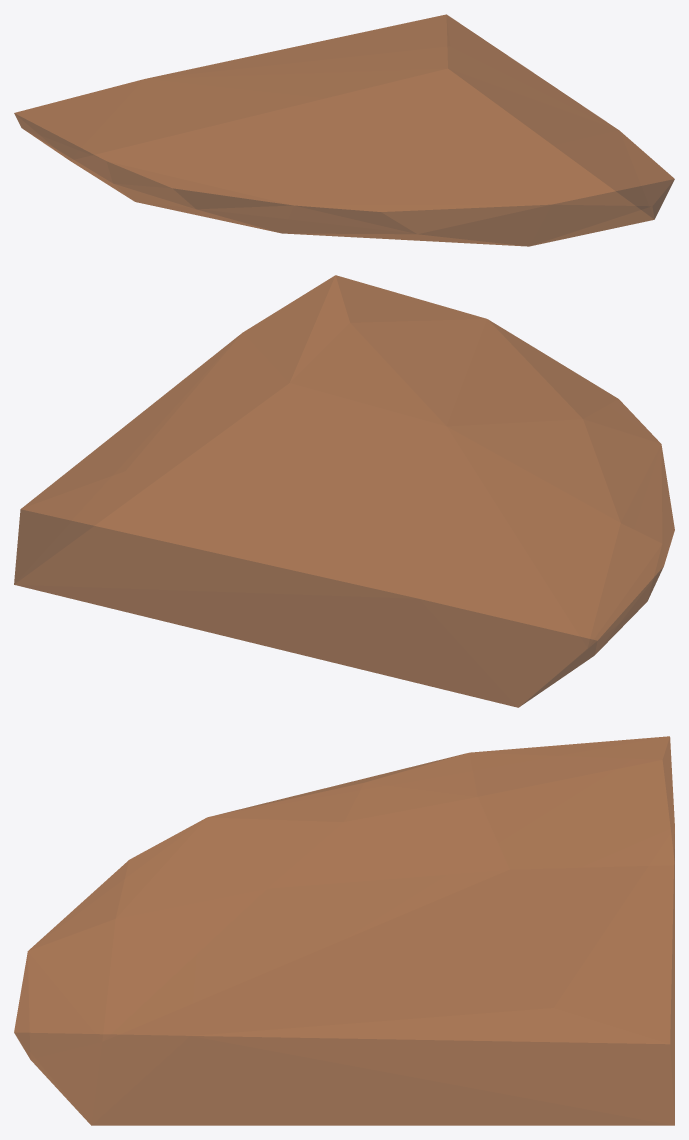
3 views of the same model, one above another, from view 1: azimuth 30°, elevation 25°; view 2: azimuth 150°, elevation 25°; view 3: azimuth 270°, elevation 25° (orthographic). The views are drawn at different scales.
Visible parts, largest first — view 1: Shape_IndexedFaceSet.005_Shape_IndexedFaceSet.7631; view 2: Shape_IndexedFaceSet.005_Shape_IndexedFaceSet.7631; view 3: Shape_IndexedFaceSet.005_Shape_IndexedFaceSet.7631.
Part boxes in pixels (left/top/right/bottom): Shape_IndexedFaceSet.005_Shape_IndexedFaceSet.7631: left=14, top=14, right=674, bottom=246; Shape_IndexedFaceSet.005_Shape_IndexedFaceSet.7631: left=14, top=275, right=674, bottom=707; Shape_IndexedFaceSet.005_Shape_IndexedFaceSet.7631: left=14, top=736, right=674, bottom=1125.
Size of the model in its own units: 0.5425 by 0.0757 by 0.5046.
